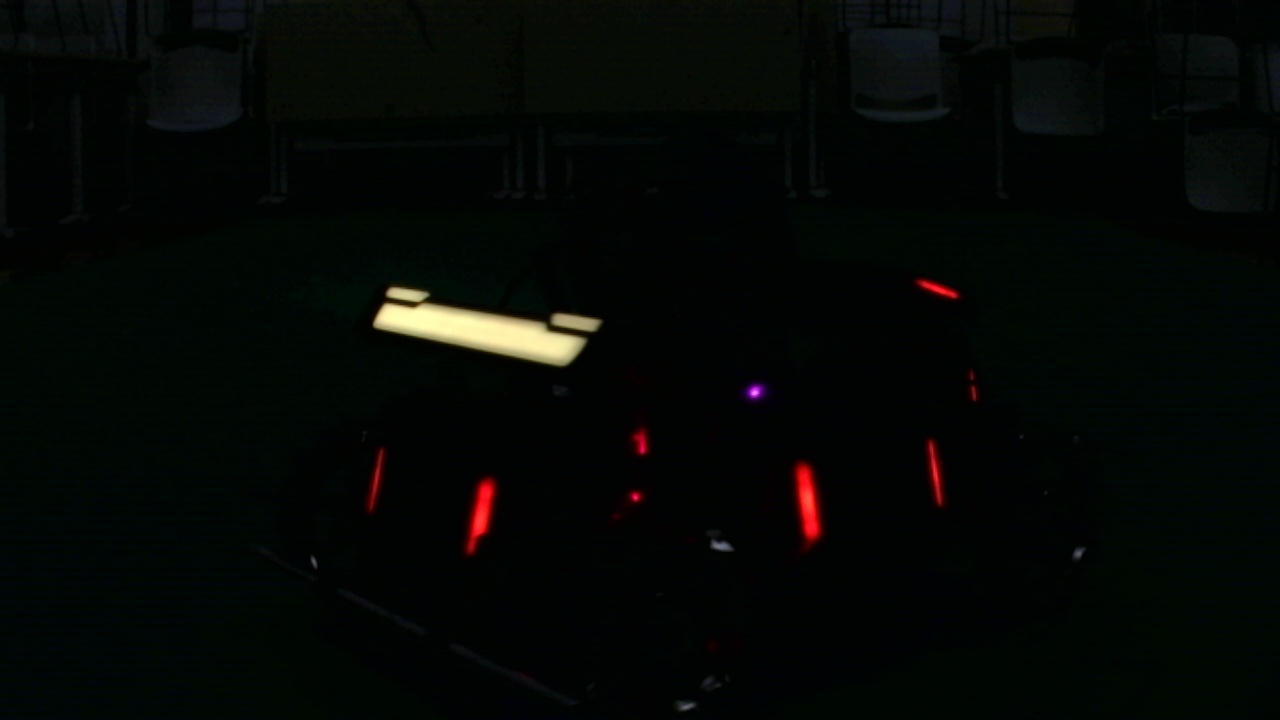lamp: (467, 463, 499, 554), (791, 461, 823, 539), (365, 444, 383, 521)
notpair1: (470, 464, 830, 555)
pair1: (367, 445, 497, 553)
